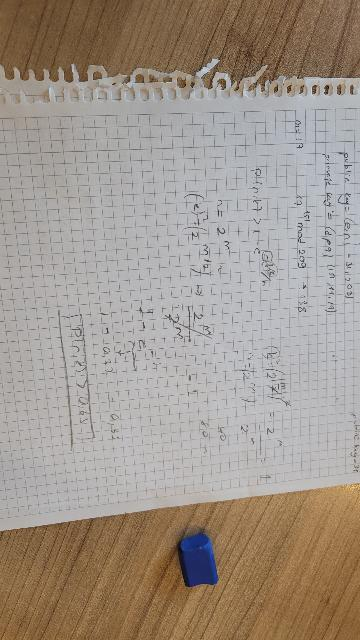Kagit: (0, 52, 360, 527)
